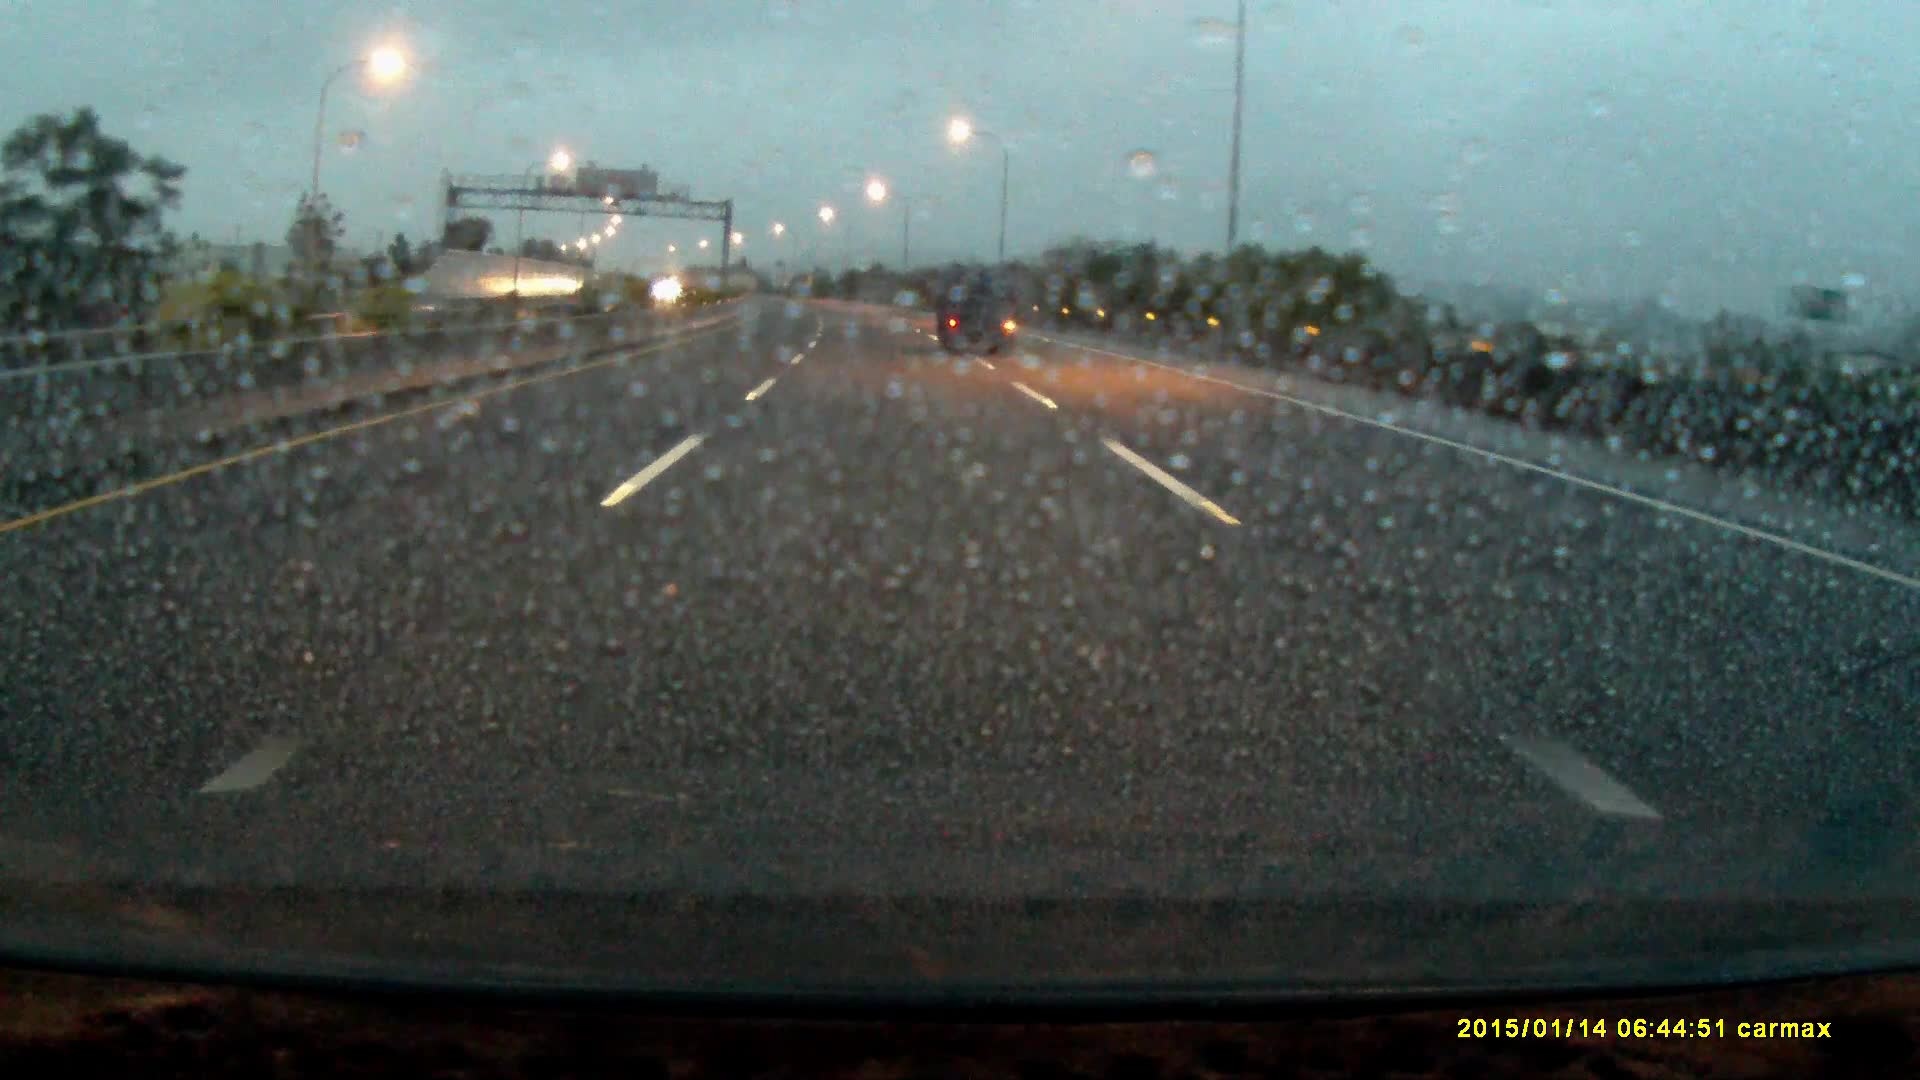vehicle: (935, 272, 1021, 357)
